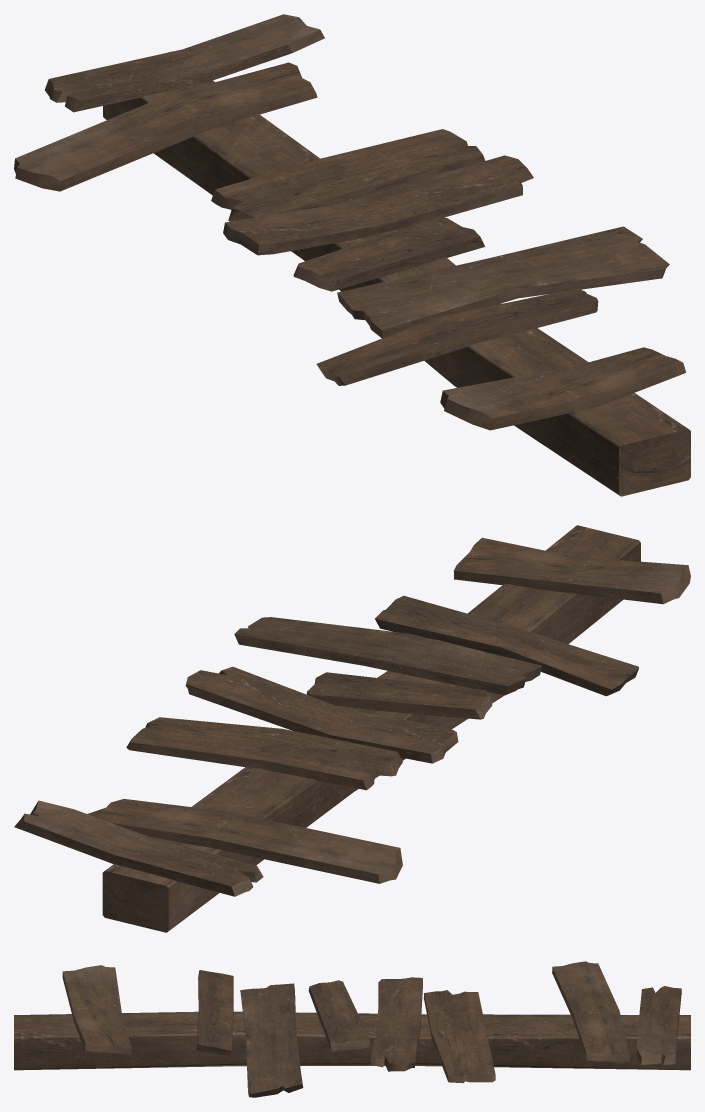
File: SM_Wooden_Floor_Ruined_09.fbx
3 renders of one model, top to bottom at view 1: azimuth 30°, elevation 25°; view 2: azimuth 150°, elevation 25°; view 3: azimuth 270°, elevation 25°, orthographic. The views are drawn at different scales.
Visible parts, largest first — view 1: SM_Wooden_Floor_Ruined_09_LOD0; view 2: SM_Wooden_Floor_Ruined_09_LOD0; view 3: SM_Wooden_Floor_Ruined_09_LOD0.
Part boxes in pixels (box(x1,y1,x2,y2)): SM_Wooden_Floor_Ruined_09_LOD0: box(14, 14, 690, 496); SM_Wooden_Floor_Ruined_09_LOD0: box(14, 525, 690, 932); SM_Wooden_Floor_Ruined_09_LOD0: box(14, 961, 690, 1097).
Size of what is drawn, in the model's own units: 269 by 49.86 by 600.
